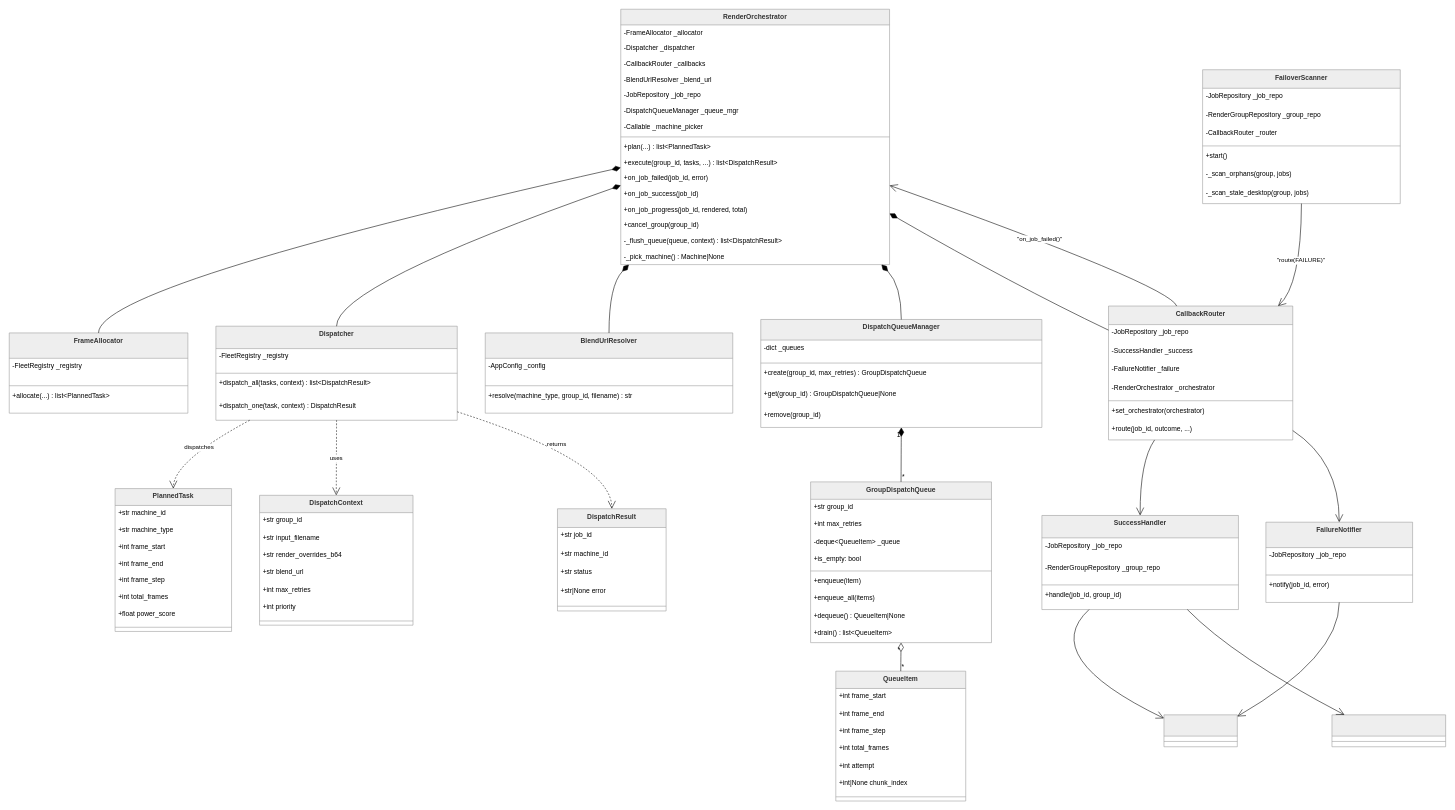
The diagram is 1455 pixels wide and 810 high, and some of its shapes have lost their labels. The shapes that lost their labels are listed below. From the top down, each one's centre as x and y in pixels, then its label:
[1200,730]: JobRepository
[1388,730]: RenderGroupRepository
